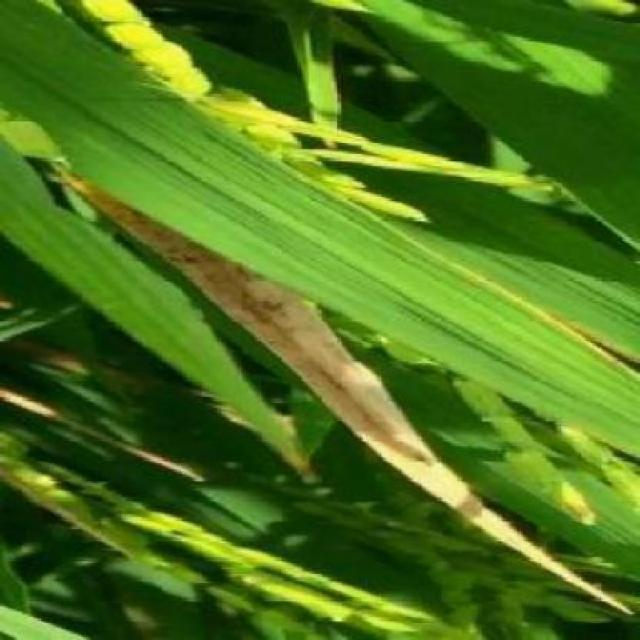Brown_Spot: (329, 361, 445, 468), (0, 382, 68, 500)
